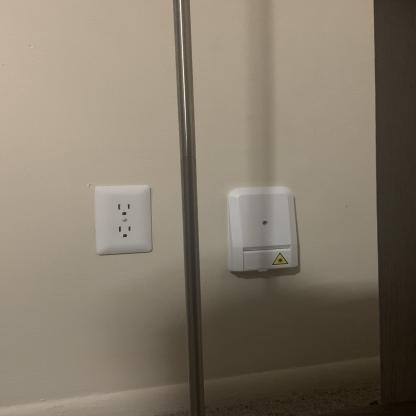OUTLET: (94, 186, 152, 252)
